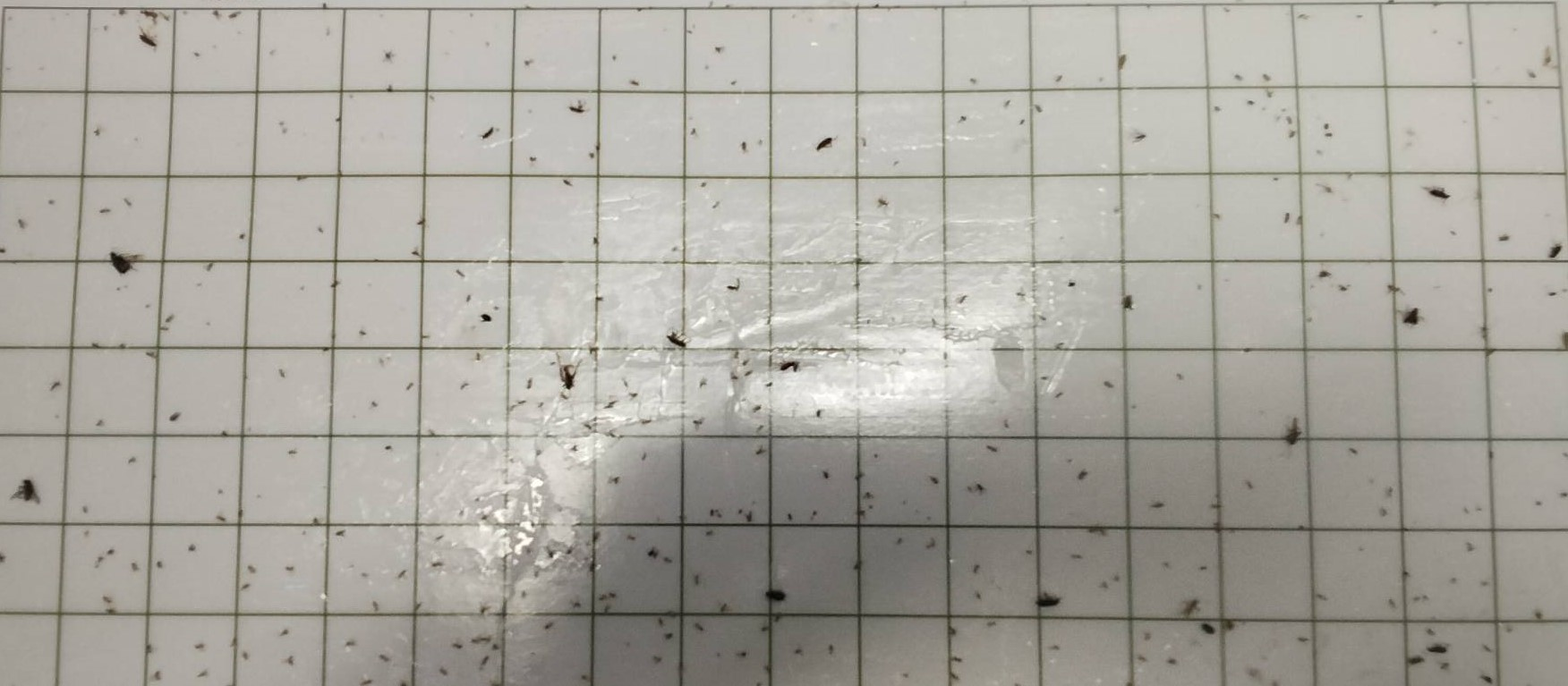fly: (105, 248, 146, 278), (10, 475, 45, 505), (557, 362, 581, 391), (1400, 305, 1423, 329)
test: (1280, 414, 1309, 449), (1032, 589, 1067, 614), (1425, 181, 1454, 205), (134, 29, 164, 52), (663, 329, 691, 352), (810, 132, 838, 154), (778, 354, 802, 376), (1538, 46, 1560, 69), (1404, 649, 1428, 670), (1178, 596, 1201, 617), (763, 584, 787, 604), (568, 98, 592, 117), (476, 125, 499, 144), (1545, 240, 1564, 261), (1120, 290, 1139, 311), (721, 277, 742, 295), (1087, 521, 1108, 538), (1427, 641, 1450, 656), (1211, 518, 1229, 537), (1385, 280, 1404, 298), (585, 343, 604, 361), (1198, 622, 1219, 638), (476, 307, 495, 324), (1131, 130, 1150, 147), (292, 171, 311, 188), (139, 8, 159, 24), (1480, 669, 1500, 685), (1115, 52, 1131, 72), (336, 164, 352, 184), (1073, 467, 1091, 484), (606, 473, 624, 489), (1310, 588, 1329, 603), (1315, 265, 1334, 280), (1478, 322, 1495, 338), (381, 83, 397, 100), (46, 378, 64, 393), (166, 409, 184, 424), (471, 631, 491, 644), (14, 216, 30, 232), (923, 537, 939, 553), (1383, 596, 1399, 612), (588, 530, 605, 545), (1436, 660, 1453, 675), (1335, 280, 1352, 295), (849, 254, 866, 269), (1525, 66, 1540, 83), (602, 397, 620, 411), (1295, 8, 1309, 26), (562, 545, 578, 560), (692, 620, 708, 635), (850, 558, 866, 573), (1223, 617, 1238, 633), (1208, 498, 1224, 513), (456, 377, 471, 393), (818, 467, 832, 484), (1243, 665, 1261, 678), (1558, 326, 1568, 349), (852, 469, 867, 484), (811, 406, 826, 421), (1097, 577, 1112, 592), (1482, 641, 1497, 656), (875, 195, 890, 210), (1052, 388, 1067, 403), (194, 667, 210, 681), (343, 636, 357, 652), (753, 444, 767, 460), (985, 444, 1001, 458), (1166, 654, 1180, 670), (1462, 540, 1478, 554), (1483, 346, 1499, 360), (749, 401, 765, 415), (711, 42, 727, 56), (383, 48, 397, 64), (330, 113, 344, 129), (408, 601, 425, 614), (1149, 498, 1166, 511), (1495, 232, 1513, 244), (1111, 202, 1123, 220), (146, 347, 160, 362), (125, 453, 140, 467), (238, 579, 253, 593), (283, 654, 298, 668), (479, 600, 493, 615), (585, 560, 599, 575), (1136, 652, 1151, 666), (1297, 632, 1312, 646), (1483, 449, 1498, 463), (955, 292, 970, 306), (692, 417, 707, 431), (368, 396, 382, 411), (588, 234, 603, 248), (579, 670, 595, 683), (715, 601, 731, 614), (1280, 209, 1293, 225), (1409, 590, 1421, 607), (1320, 184, 1337, 196), (215, 512, 229, 526), (150, 668, 164, 682), (395, 566, 409, 580), (1000, 418, 1014, 432), (927, 473, 941, 487), (1384, 486, 1398, 500), (639, 415, 653, 429), (453, 266, 467, 280), (1053, 72, 1067, 86), (120, 197, 135, 210), (97, 205, 112, 218), (367, 600, 380, 615), (451, 638, 466, 651), (1243, 478, 1258, 491), (1052, 340, 1067, 353), (568, 441, 583, 454), (581, 422, 596, 435), (330, 278, 343, 293), (409, 247, 424, 260), (1231, 70, 1246, 83), (480, 652, 492, 668), (541, 620, 557, 632), (636, 451, 652, 463), (974, 481, 990, 493), (1160, 559, 1176, 571), (1346, 446, 1362, 458), (228, 8, 242, 21), (152, 559, 165, 573), (93, 555, 106, 569), (333, 527, 347, 540), (378, 651, 392, 664), (662, 629, 675, 643), (862, 488, 875, 502), (969, 563, 982, 577), (1062, 454, 1075, 468), (1198, 561, 1211, 575), (1532, 608, 1546, 621), (1458, 503, 1471, 517), (1294, 213, 1307, 227), (1211, 209, 1225, 222), (736, 140, 749, 154), (696, 375, 710, 388), (404, 379, 417, 393), (857, 135, 870, 149), (1015, 114, 1029, 127), (1264, 87, 1277, 101), (629, 76, 643, 89), (544, 547, 559, 559), (521, 546, 536, 558), (691, 572, 703, 587), (772, 610, 784, 625), (947, 670, 962, 682), (984, 619, 999, 631), (1101, 379, 1116, 391), (763, 378, 775, 393), (955, 113, 970, 125), (522, 56, 534, 71), (560, 177, 575, 189), (322, 25, 334, 40), (430, 559, 446, 570), (646, 547, 662, 558), (163, 311, 176, 324), (239, 650, 252, 663), (277, 626, 290, 639), (438, 664, 451, 677), (1023, 546, 1036, 559), (1065, 278, 1078, 291), (710, 199, 723, 212), (754, 422, 767, 435), (728, 370, 741, 383), (472, 350, 485, 363), (1261, 70, 1274, 83), (318, 1, 332, 13), (204, 259, 216, 273), (185, 542, 199, 554), (433, 533, 447, 545), (945, 624, 959, 636), (1111, 572, 1125, 584), (1425, 625, 1439, 637), (688, 125, 702, 137), (668, 243, 682, 255), (620, 377, 634, 389), (463, 291, 475, 305), (851, 278, 863, 292), (928, 314, 940, 328), (1031, 103, 1045, 115), (244, 563, 259, 574), (972, 592, 987, 603), (1341, 170, 1356, 181), (863, 315, 874, 330), (268, 43, 279, 58), (706, 507, 722, 517), (1069, 551, 1085, 561), (159, 322, 171, 335), (90, 340, 103, 352), (276, 367, 289, 379), (128, 561, 141, 573), (570, 599, 583, 611), (527, 519, 540, 531), (676, 657, 688, 670), (763, 662, 776, 674), (826, 642, 839, 654), (742, 511, 755, 523), (1533, 497, 1545, 510), (1378, 506, 1390, 519), (1474, 504, 1487, 516), (1295, 522, 1307, 535), (1270, 172, 1282, 185), (1175, 370, 1188, 382), (1015, 287, 1027, 300), (418, 331, 431, 343), (1211, 103, 1223, 116), (1284, 113, 1296, 126), (684, 24, 696, 37), (90, 126, 104, 137), (99, 594, 113, 605), (382, 442, 396, 453), (663, 553, 674, 567), (760, 622, 771, 636), (1401, 566, 1412, 580), (606, 425, 617, 439), (1239, 344, 1254, 354), (106, 607, 118, 619), (310, 516, 322, 528), (285, 562, 297, 574), (228, 635, 240, 647), (491, 640, 503, 652), (1143, 631, 1155, 643), (1480, 578, 1492, 590), (1035, 311, 1047, 323), (524, 377, 536, 389), (491, 302, 503, 314), (314, 223, 326, 235), (1355, 11, 1367, 23), (527, 154, 539, 166), (586, 150, 598, 162), (118, 340, 131, 351), (286, 447, 299, 458), (625, 532, 636, 545), (665, 608, 678, 619), (652, 653, 663, 666), (1446, 227, 1459, 238), (416, 216, 429, 227), (1246, 97, 1257, 110), (1321, 118, 1332, 131), (558, 391, 572, 401), (889, 158, 903, 168), (465, 11, 479, 21), (949, 654, 964, 663), (220, 428, 231, 440), (79, 505, 91, 516), (144, 643, 155, 655), (471, 495, 483, 506), (655, 615, 667, 626), (738, 649, 749, 661), (676, 513, 688, 524), (784, 510, 795, 522), (856, 507, 867, 519), (893, 535, 904, 547), (1401, 525, 1413, 536), (1450, 575, 1462, 586), (1503, 625, 1515, 636), (1001, 97, 1013, 108), (592, 143, 603, 155), (483, 40, 494, 52), (322, 343, 332, 356), (426, 428, 439, 438), (742, 368, 755, 378), (508, 402, 518, 415), (356, 328, 369, 338), (1288, 127, 1298, 140), (359, 677, 373, 686), (237, 230, 248, 241), (106, 546, 117, 557), (596, 591, 607, 602), (730, 349, 741, 360), (516, 397, 527, 408), (595, 293, 606, 304), (346, 93, 357, 104), (45, 197, 57, 207), (82, 528, 92, 540), (236, 508, 246, 520), (480, 512, 490, 524), (792, 646, 804, 656), (703, 527, 715, 537), (900, 670, 912, 680), (1358, 544, 1368, 556), (1430, 25, 1442, 35), (1454, 38, 1466, 48), (729, 79, 741, 89), (277, 115, 287, 127), (193, 641, 206, 650), (1548, 288, 1557, 301), (531, 568, 541, 579), (810, 508, 821, 518), (871, 451, 881, 462), (1485, 284, 1495, 295), (757, 136, 767, 147), (537, 400, 547, 411), (533, 448, 544, 458), (628, 391, 638, 402), (616, 431, 626, 442), (1326, 130, 1336, 141), (1315, 147, 1325, 158), (608, 52, 619, 62), (116, 9, 128, 18), (190, 50, 202, 59), (867, 502, 876, 514), (967, 76, 979, 85), (0, 554, 8, 567), (1560, 284, 1568, 297), (548, 356, 556, 369), (603, 604, 613, 614), (1195, 282, 1205, 292), (1039, 372, 1049, 382), (739, 358, 749, 368), (428, 93, 438, 103), (111, 285, 122, 294), (518, 589, 529, 598), (608, 590, 619, 599), (698, 180, 709, 189), (96, 418, 105, 428), (254, 492, 263, 502), (456, 508, 466, 517), (966, 486, 975, 496), (1559, 490, 1568, 500), (1307, 282, 1317, 291), (1129, 401, 1139, 410), (211, 10, 222, 18), (281, 127, 289, 138), (1, 246, 8, 258), (360, 571, 369, 580), (736, 506, 745, 515), (703, 62, 712, 71), (182, 9, 192, 17), (217, 486, 225, 496), (1052, 643, 1060, 653), (1305, 315, 1315, 323), (103, 22, 109, 34), (901, 499, 909, 508), (1421, 594, 1430, 602), (298, 284, 306, 293), (144, 301, 151, 310), (196, 281, 203, 290), (755, 679, 764, 686), (1561, 449, 1568, 458), (246, 426, 254, 433), (300, 529, 307, 537), (399, 678, 406, 686)
